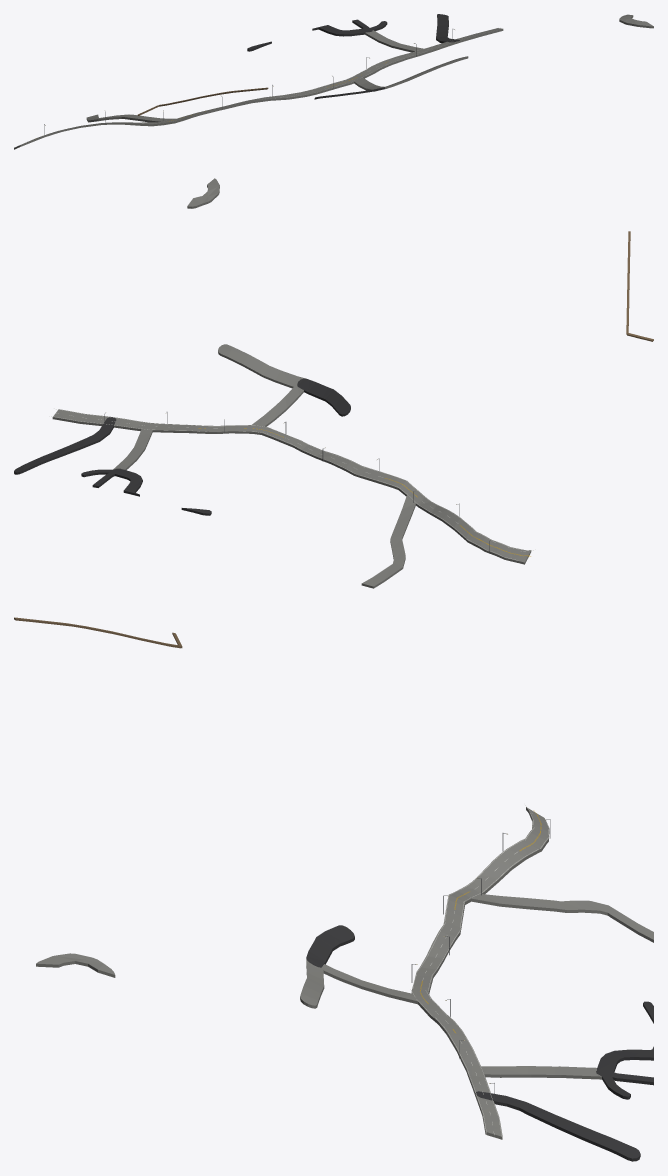
The picture shows the model from 3 angles, top to bottom: view 1: azimuth 30°, elevation 25°; view 2: azimuth 150°, elevation 25°; view 3: azimuth 270°, elevation 25°; orthographic projection. The views are drawn at different scales.
Bounding box in the file's own units: 298 × 117 × 232.
